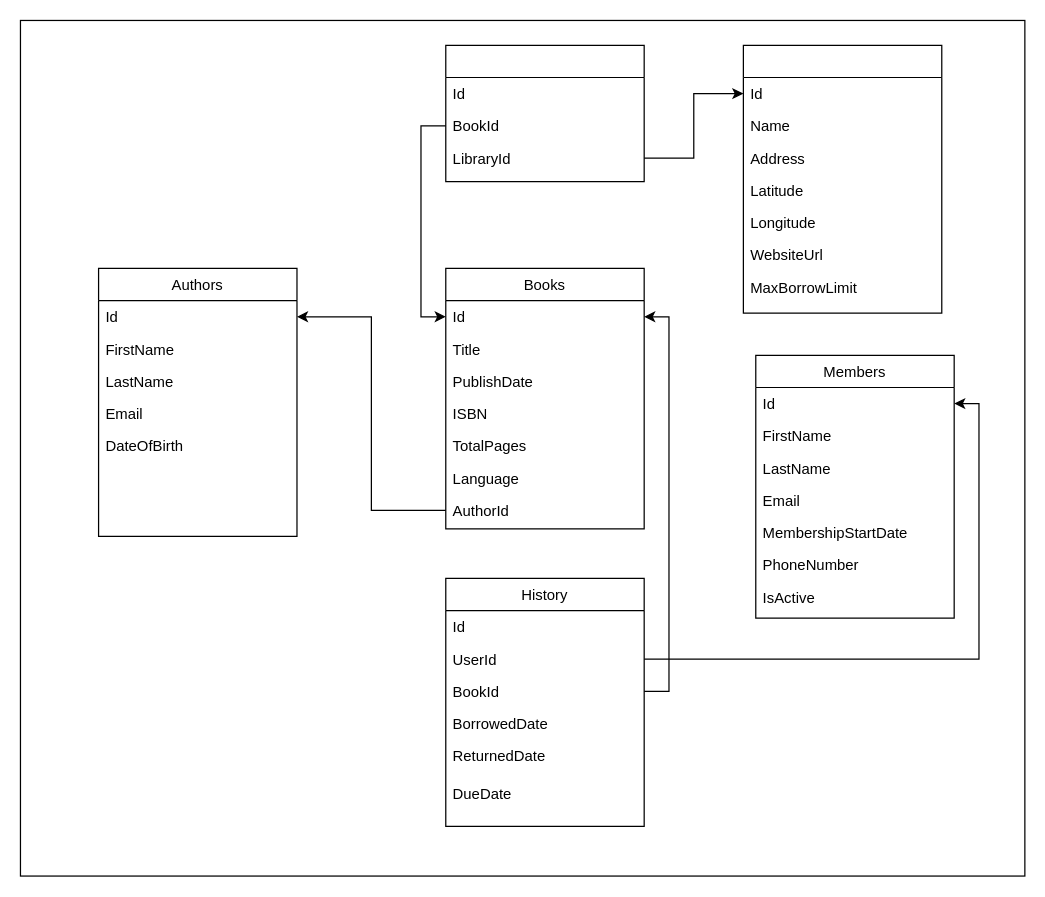
Some shapes in this 1045 by 897 pixel diagram are drawn without their labels. Here are the shapes that lost their labels. From the top down, the box of each, then its label:
(445, 44, 644, 182): BooksLibraries
(742, 44, 942, 313): Libraries
